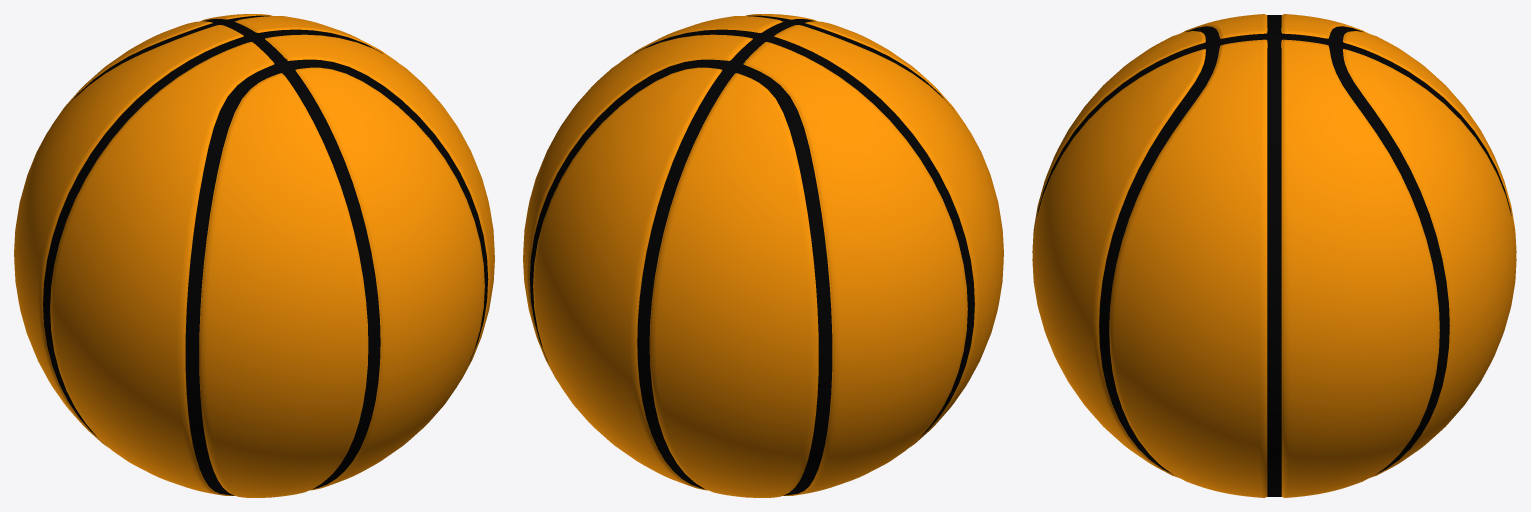
File: basketball.fbx
3 views of the same model, side by side, from view 1: azimuth 30°, elevation 25°; view 2: azimuth 150°, elevation 25°; view 3: azimuth 270°, elevation 25° (orthographic).
Visible parts, largest first — view 1: Basketball; view 2: Basketball; view 3: Basketball.
Boxes of the visible parts, box(x1,y1,x2,y2) form: Basketball: box(14, 14, 494, 497); Basketball: box(523, 14, 1003, 497); Basketball: box(1032, 14, 1516, 497).
Size of the model in its own units: 19251 by 19325 by 19251.
